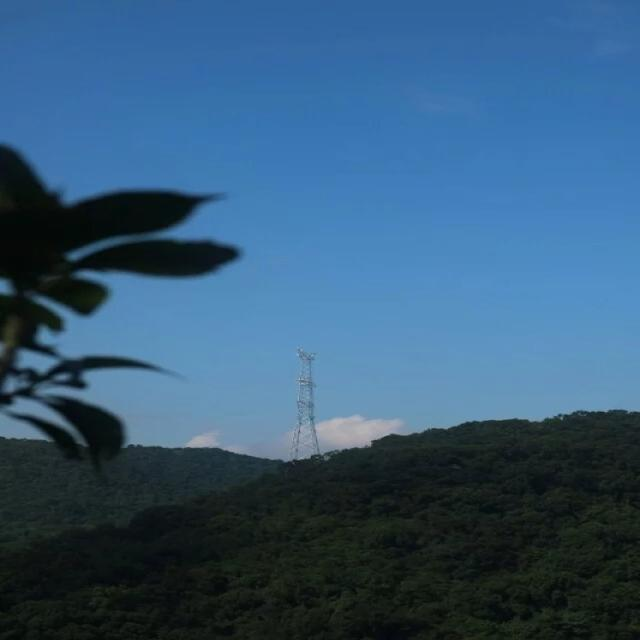non-critical vegetation: (256, 346, 340, 466)
